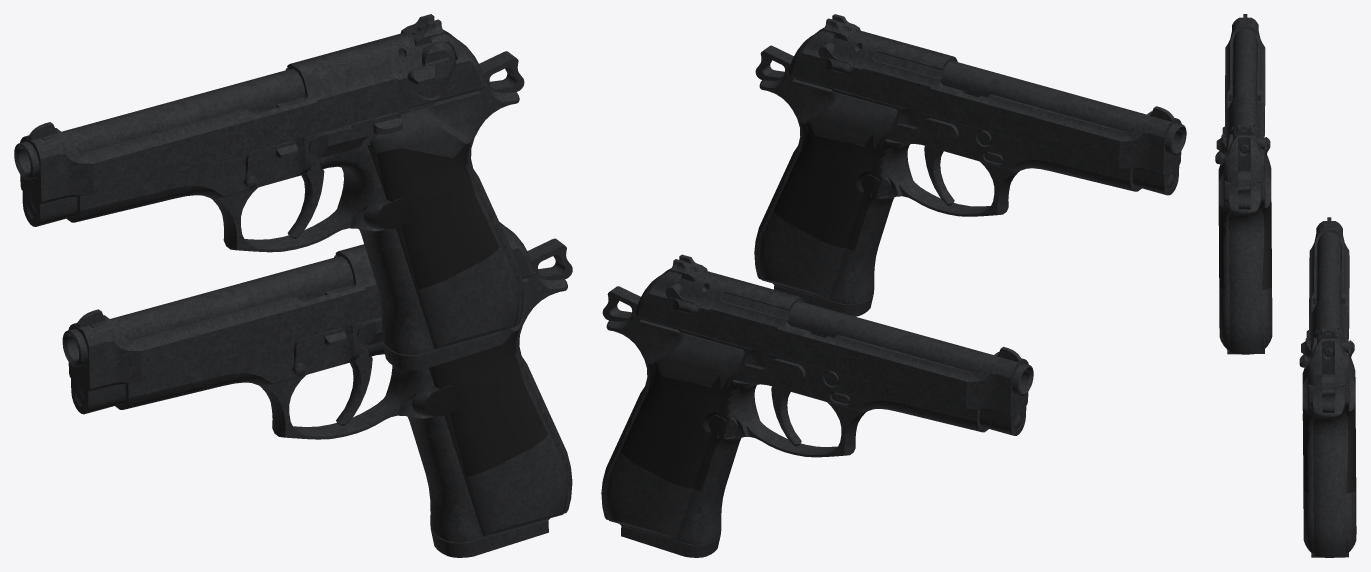
Rendered from dual_beretta.glb.
3 views of the same model, side by side, from view 1: azimuth 30°, elevation 25°; view 2: azimuth 150°, elevation 25°; view 3: azimuth 270°, elevation 25° (orthographic). The views are drawn at different scales.
Visible parts, largest first — view 1: dual_beretta; view 2: dual_beretta; view 3: dual_beretta.
Part boxes in pixels (box(x1,y1,x2,y2)): dual_beretta: box(14, 14, 572, 557); dual_beretta: box(601, 14, 1186, 557); dual_beretta: box(1215, 14, 1356, 557).
Bounding box in the file's own units: 0.267 × 0.2506 × 0.0838.
Materials: 2 (2 with a texture image).
